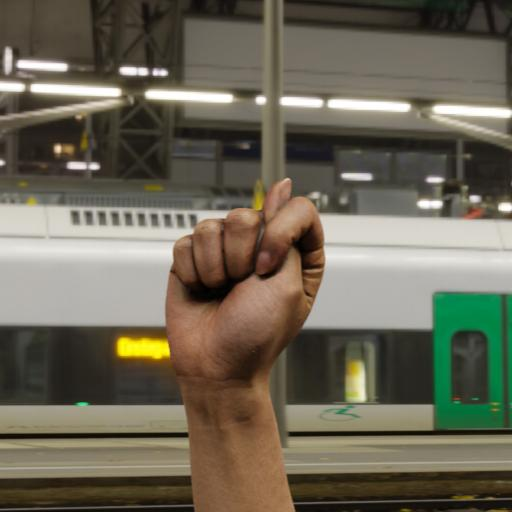T: (145, 142, 332, 408)
